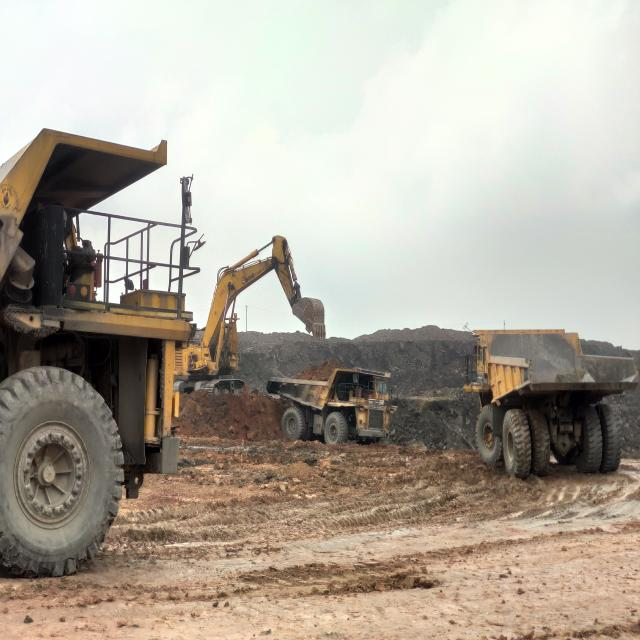dump_truck: (0, 132, 198, 580), (470, 330, 640, 481), (263, 362, 395, 447)
excavator: (182, 236, 326, 395)
